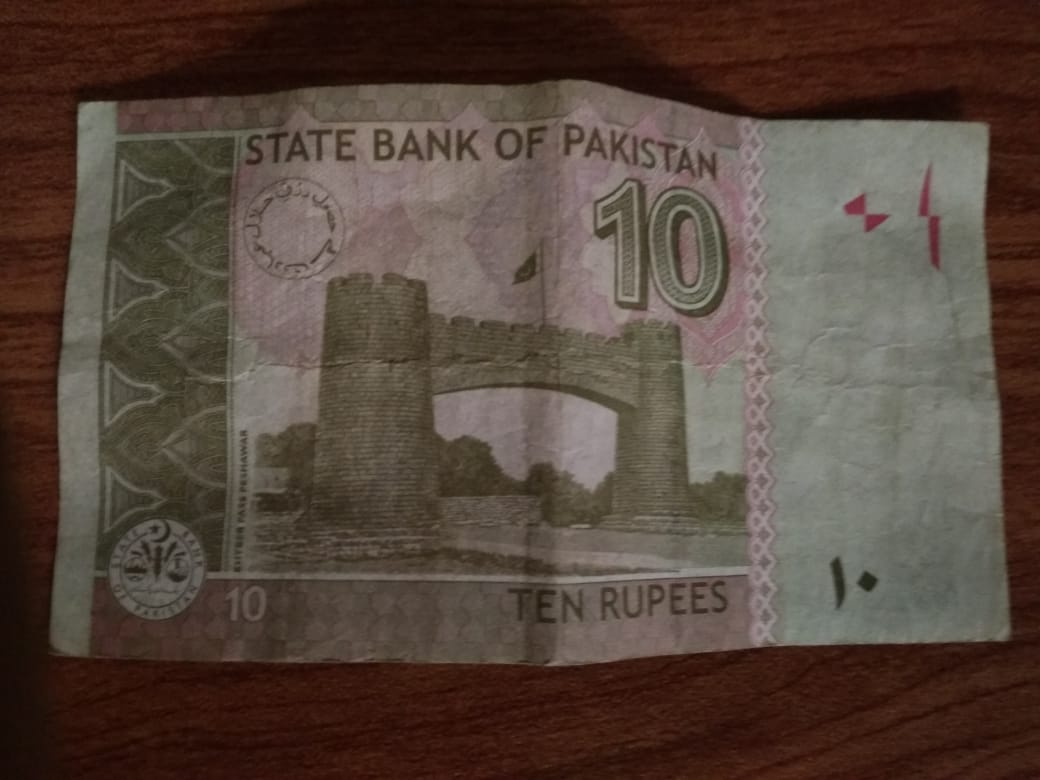10 rupee: (52, 75, 1016, 657)
